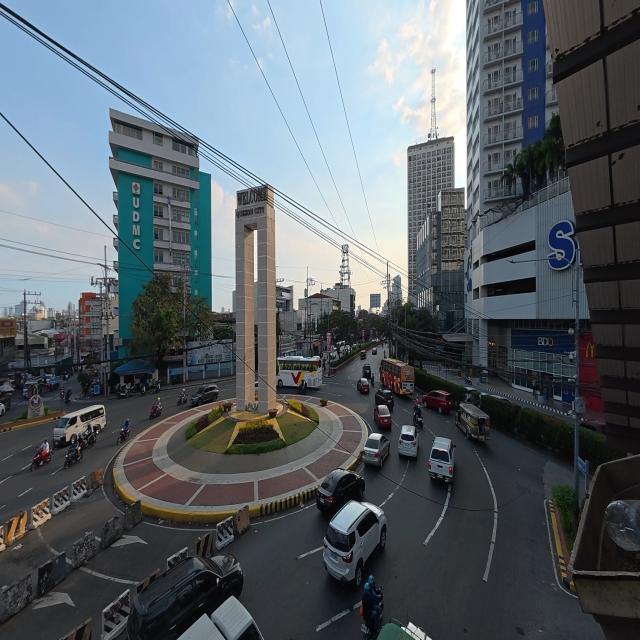bus: (378, 357, 412, 394)
car: (322, 502, 388, 588), (429, 436, 458, 484), (361, 430, 388, 467), (399, 424, 422, 458), (422, 393, 454, 415), (357, 379, 371, 395)
